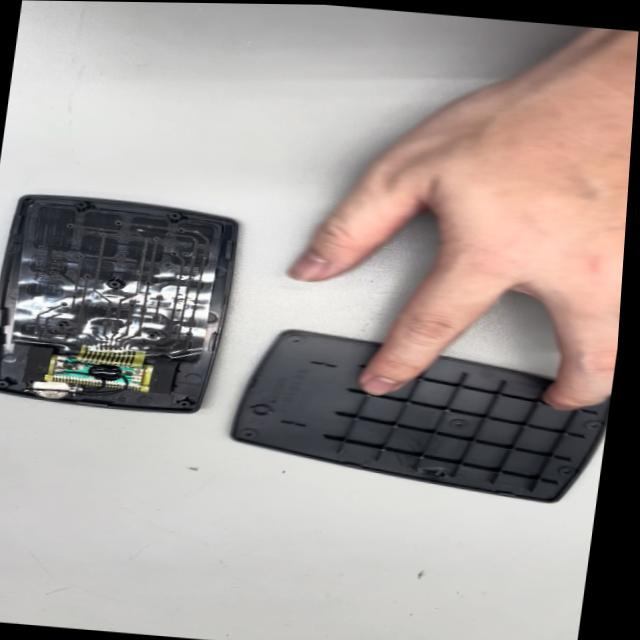back_cover: (216, 320, 618, 510)
front_panel: (0, 186, 253, 420)
